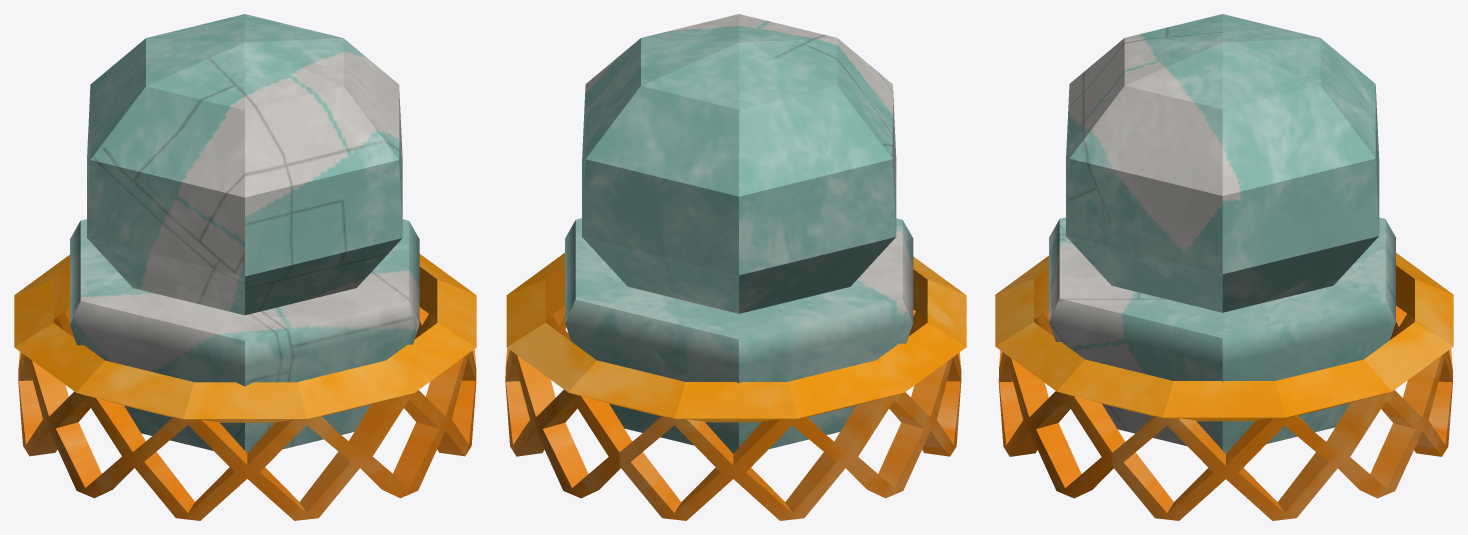
File: Hull_02.fbx
3 renders of one model, left to right at view 1: azimuth 30°, elevation 25°; view 2: azimuth 150°, elevation 25°; view 3: azimuth 270°, elevation 25°, orthographic.
Visible parts, largest first — view 1: Hull_02; view 2: Hull_02; view 3: Hull_02.
Boxes of the visible parts, x1,y1,x2,y2 form: Hull_02: (14,14,476,520); Hull_02: (505,14,966,520); Hull_02: (995,14,1453,520).
Size of the model in its own units: 14.89 by 13.69 by 14.87.
